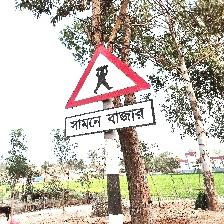Market-in-front: (63, 44, 155, 139)
